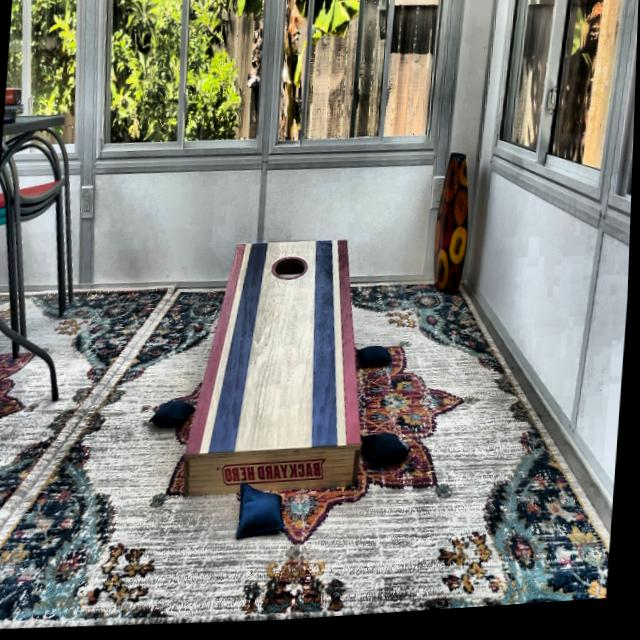blue-bean-bag: (238, 483, 288, 543), (363, 436, 413, 469), (151, 399, 197, 429), (359, 348, 395, 372)
board: (215, 241, 354, 457)
hole: (271, 256, 311, 285)
